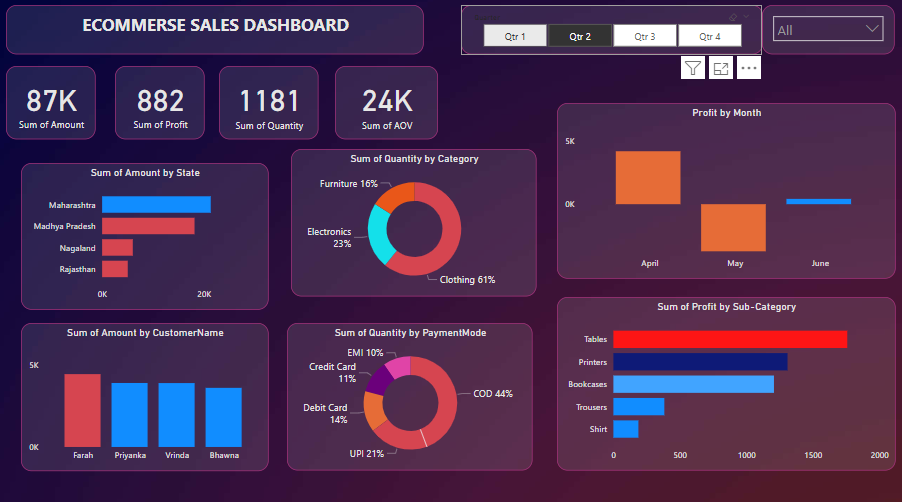

The page's visual inventory and layout, read from the dashboard file:
{"tool":"powerbi","page":{"name":"Page 1","canvas":[1280,720],"ordinal":0},"visuals":[{"type":"textbox","box":[10.1,13.4,592.2,70.5],"z":0},{"type":"columnChart","title":"Profit by Month","fields":{"Category":["Orders.Order Date.Variation.Date Hierarchy.Month"],"Y":["Details.Profit"]},"box":[790.6,151.2,479.5,249.1],"z":1000},{"type":"barChart","fields":{"Category":["Details.Sub-Category"],"Y":["Details.Profit"]},"box":[790.6,426.2,479.5,246.2],"z":2000},{"type":"donutChart","fields":{"Category":["Details.Category"],"Y":["Details.Quantity"]},"box":[413.3,217.4,348.5,208.8],"z":3000},{"type":"donutChart","fields":{"Y":["Details.Quantity"],"Category":["Details.PaymentMode"]},"box":[407.5,463.7,348.5,208.8],"z":4000},{"type":"card","fields":{"Values":["Details.Amount"]},"box":[10.1,99,127.5,104],"z":5000},{"type":"card","fields":{"Values":["Details.Profit"]},"box":[164.4,99,127.5,104],"z":6000},{"type":"card","fields":{"Values":["Details.Quantity"]},"box":[312,99,140.9,104],"z":7000},{"type":"card","fields":{"Values":["Details.AOV"]},"box":[476.4,99,146,104],"z":8000},{"type":"barChart","fields":{"Category":["Orders.State"],"Y":["Details.Amount"]},"box":[31.9,236.5,350.6,208],"z":9000},{"type":"columnChart","fields":{"Category":["Orders.CustomerName"],"Y":["Details.Amount"]},"box":[31.9,463,350.6,209.7],"z":10000},{"type":"slicer","fields":{"Values":["Orders.Order Date.Variation.Date Hierarchy.Quarter"]},"box":[654.3,13.4,427.8,70.5],"z":11000},{"type":"slicer","fields":{"Values":["Orders.State"]},"box":[1082,13.4,187.9,70.5],"z":12000}]}

Visuals, with their boxes in screenshot pixels (x1, y1, x2, y2), scaled from the page's 1280x720 canvas onto the 902x502 screenshot:
textbox: pyautogui.locateOnScreen(7, 9, 424, 58)
"Profit by Month" columnChart: pyautogui.locateOnScreen(557, 105, 895, 279)
barChart - Details.Sub-Category x Details.Profit: pyautogui.locateOnScreen(557, 297, 895, 469)
donutChart - Details.Category x Details.Quantity: pyautogui.locateOnScreen(291, 152, 537, 297)
donutChart - Details.Quantity x Details.PaymentMode: pyautogui.locateOnScreen(287, 323, 533, 469)
card - Details.Amount: pyautogui.locateOnScreen(7, 69, 97, 142)
card - Details.Profit: pyautogui.locateOnScreen(116, 69, 206, 142)
card - Details.Quantity: pyautogui.locateOnScreen(220, 69, 319, 142)
card - Details.AOV: pyautogui.locateOnScreen(336, 69, 439, 142)
barChart - Orders.State x Details.Amount: pyautogui.locateOnScreen(22, 165, 270, 310)
columnChart - Orders.CustomerName x Details.Amount: pyautogui.locateOnScreen(22, 323, 270, 469)
slicer - Orders.Order Date.Variation.Date Hierarchy.Quarter: pyautogui.locateOnScreen(461, 9, 763, 58)
slicer - Orders.State: pyautogui.locateOnScreen(762, 9, 895, 58)
